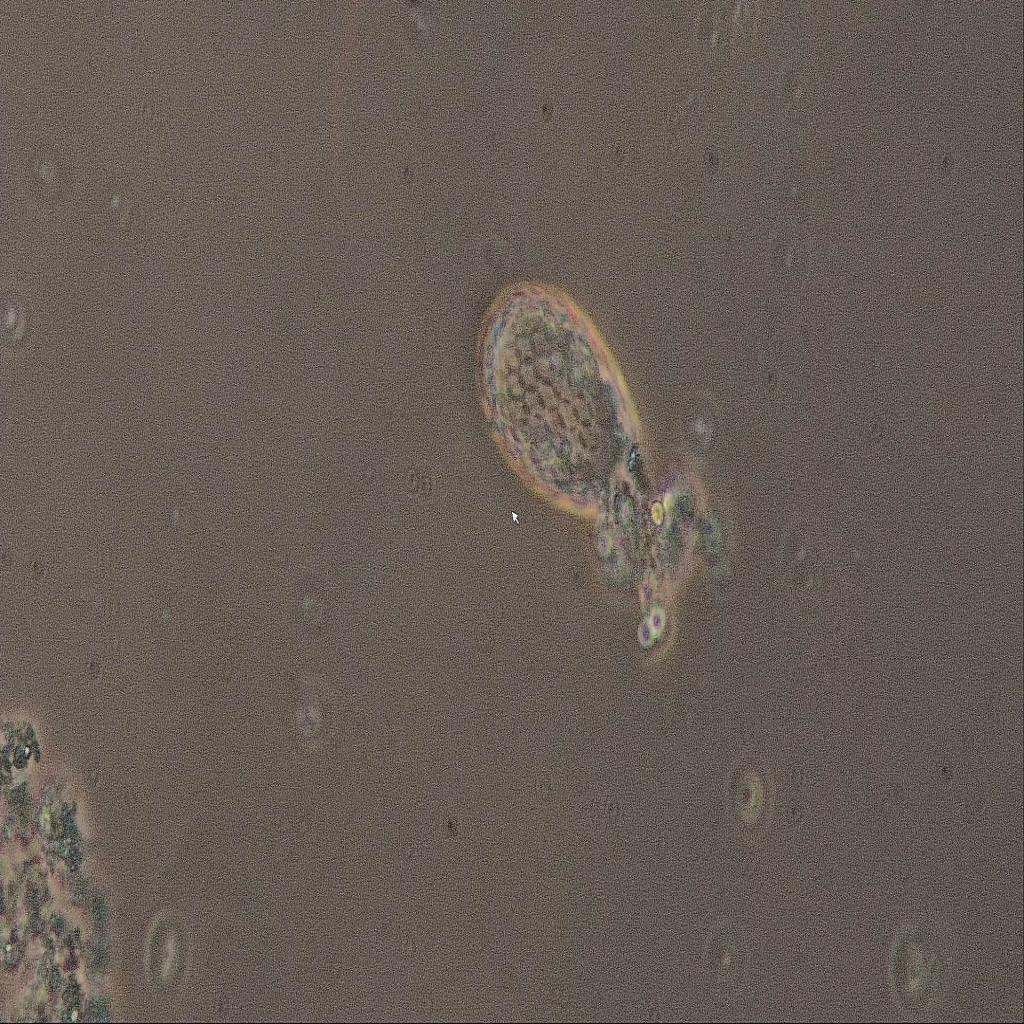Euglypha: (448, 240, 724, 638)
